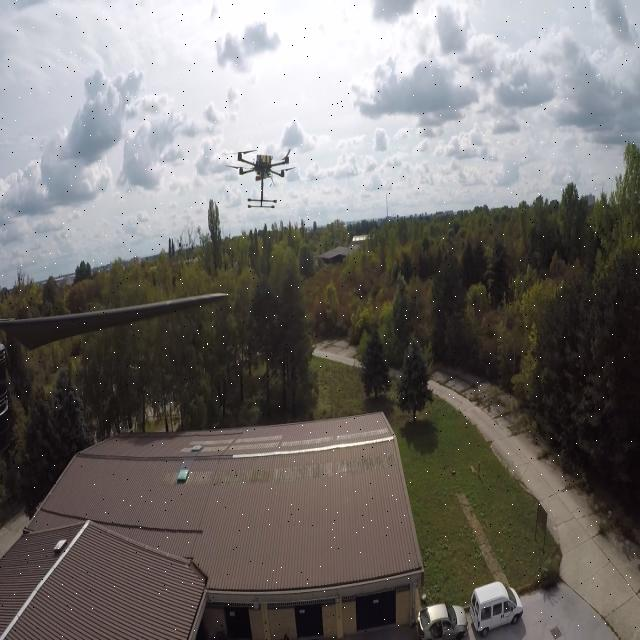UAV: (218, 136, 308, 211)
